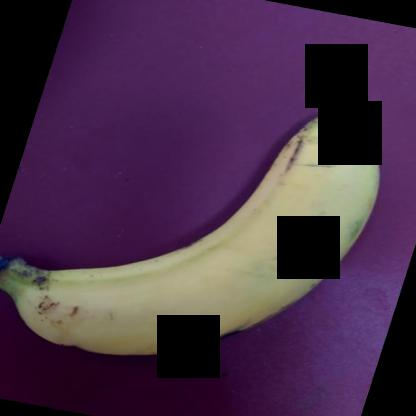freshripe: (0, 94, 391, 391)
